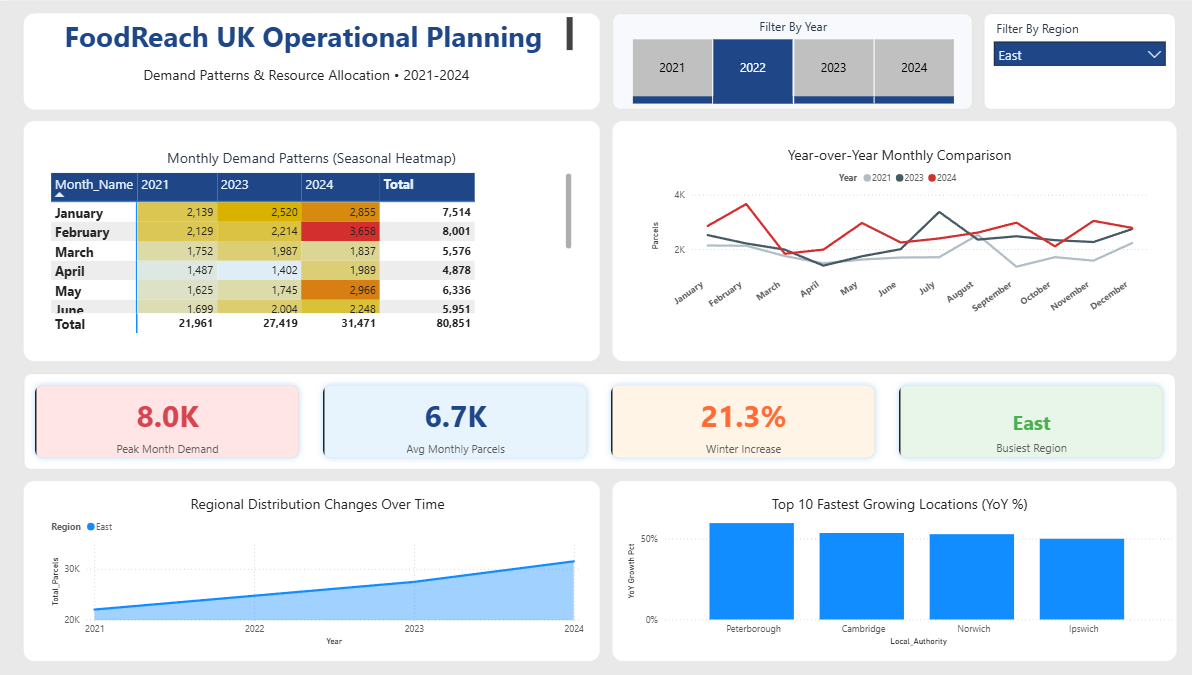

The page's visual inventory and layout, read from the dashboard file:
{"tool":"powerbi","page":{"name":"Operations Planning ","canvas":[1600,900],"ordinal":2},"visuals":[{"type":"shape","box":[816,160,752,320],"z":0},{"type":"shape","box":[32,640,768,240],"z":500},{"type":"shape","box":[32,160,768,320],"z":1000},{"type":"pivotTable","title":"Monthly Demand Patterns (Seasonal Heatmap)","fields":{"Rows":["Dim_Date.Month_Name"],"Columns":["Dim_Date.Year"],"Values":["_Measures.Total_Parcels"]},"box":[64,192,704,256],"z":2000},{"type":"shape","box":[816,640,752,240],"z":2500},{"type":"lineChart","title":"Year-over-Year Monthly Comparison","fields":{"Category":["Dim_Date.Month_Name"],"Series":["Dim_Date.Year"],"Y":["_Measures.Total_Parcels"]},"box":[864,192,672,240],"z":3000},{"type":"clusteredColumnChart","title":"Top 10 Fastest Growing Locations (YoY %)","fields":{"Category":["Dim_Location.Local_Authority"],"Y":["_Measures.YoY Growth Pct"]},"box":[816,928,784,240],"z":4000},{"type":"areaChart","title":"Regional Distribution Changes Over Time","fields":{"Category":["Dim_Date.Year"],"Series":["Dim_Location.Region"],"Y":["_Measures.Total_Parcels"]},"box":[64,656,720,208],"z":5000},{"type":"clusteredColumnChart","title":"Top 10 Fastest Growing Locations (YoY %)","fields":{"Category":["Dim_Location.Local_Authority"],"Y":["_Measures.YoY Growth Pct"]},"box":[832,656,736,208],"z":6000},{"type":"cardVisual","fields":{"Data":["_Measures.Peak Month Demand","_Measures.Avg Monthly Parcels","_Measures.Winter Increase","_Measures.Busiest Region"]},"box":[32,496,1536,128],"z":7000},{"type":"slicer","fields":{"Values":["Dim_Location.Region"]},"box":[1312,16,256,128],"z":8000},{"type":"slicer","title":"Filter By Year","fields":{"Values":["Dim_Date.Year"]},"box":[816,16,480,128],"z":9000},{"type":"shape","box":[32,16,768,128],"z":10000},{"type":"textbox","box":[48,16,720,64],"z":11000},{"type":"textbox","box":[48,80,720,48],"z":12000}]}

Visuals, with their boxes in screenshot pixels (x1, y1, x2, y2), scaled from the page's 1600x900 canvas onto the 1192x675 screenshot:
shape: region(608, 120, 1168, 360)
shape: region(24, 480, 596, 660)
shape: region(24, 120, 596, 360)
"Monthly Demand Patterns (Seasonal Heatmap)" pivotTable: region(48, 144, 572, 336)
shape: region(608, 480, 1168, 660)
"Year-over-Year Monthly Comparison" lineChart: region(644, 144, 1144, 324)
"Regional Distribution Changes Over Time" areaChart: region(48, 492, 584, 648)
"Top 10 Fastest Growing Locations (YoY %)" clusteredColumnChart: region(620, 492, 1168, 648)
cardVisual - _Measures.Peak Month Demand x _Measures.Avg Monthly Parcels: region(24, 372, 1168, 468)
slicer - Dim_Location.Region: region(977, 12, 1168, 108)
"Filter By Year" slicer: region(608, 12, 966, 108)
shape: region(24, 12, 596, 108)
textbox: region(36, 12, 572, 60)
textbox: region(36, 60, 572, 96)
